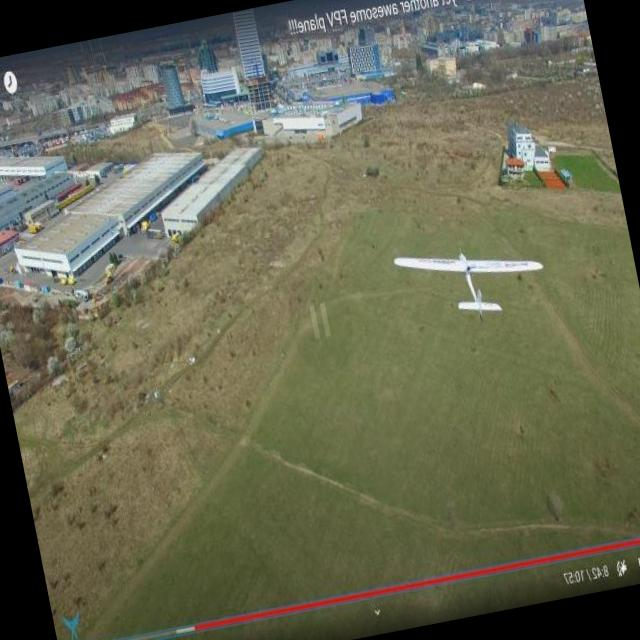UAV: (392, 216, 561, 334)
